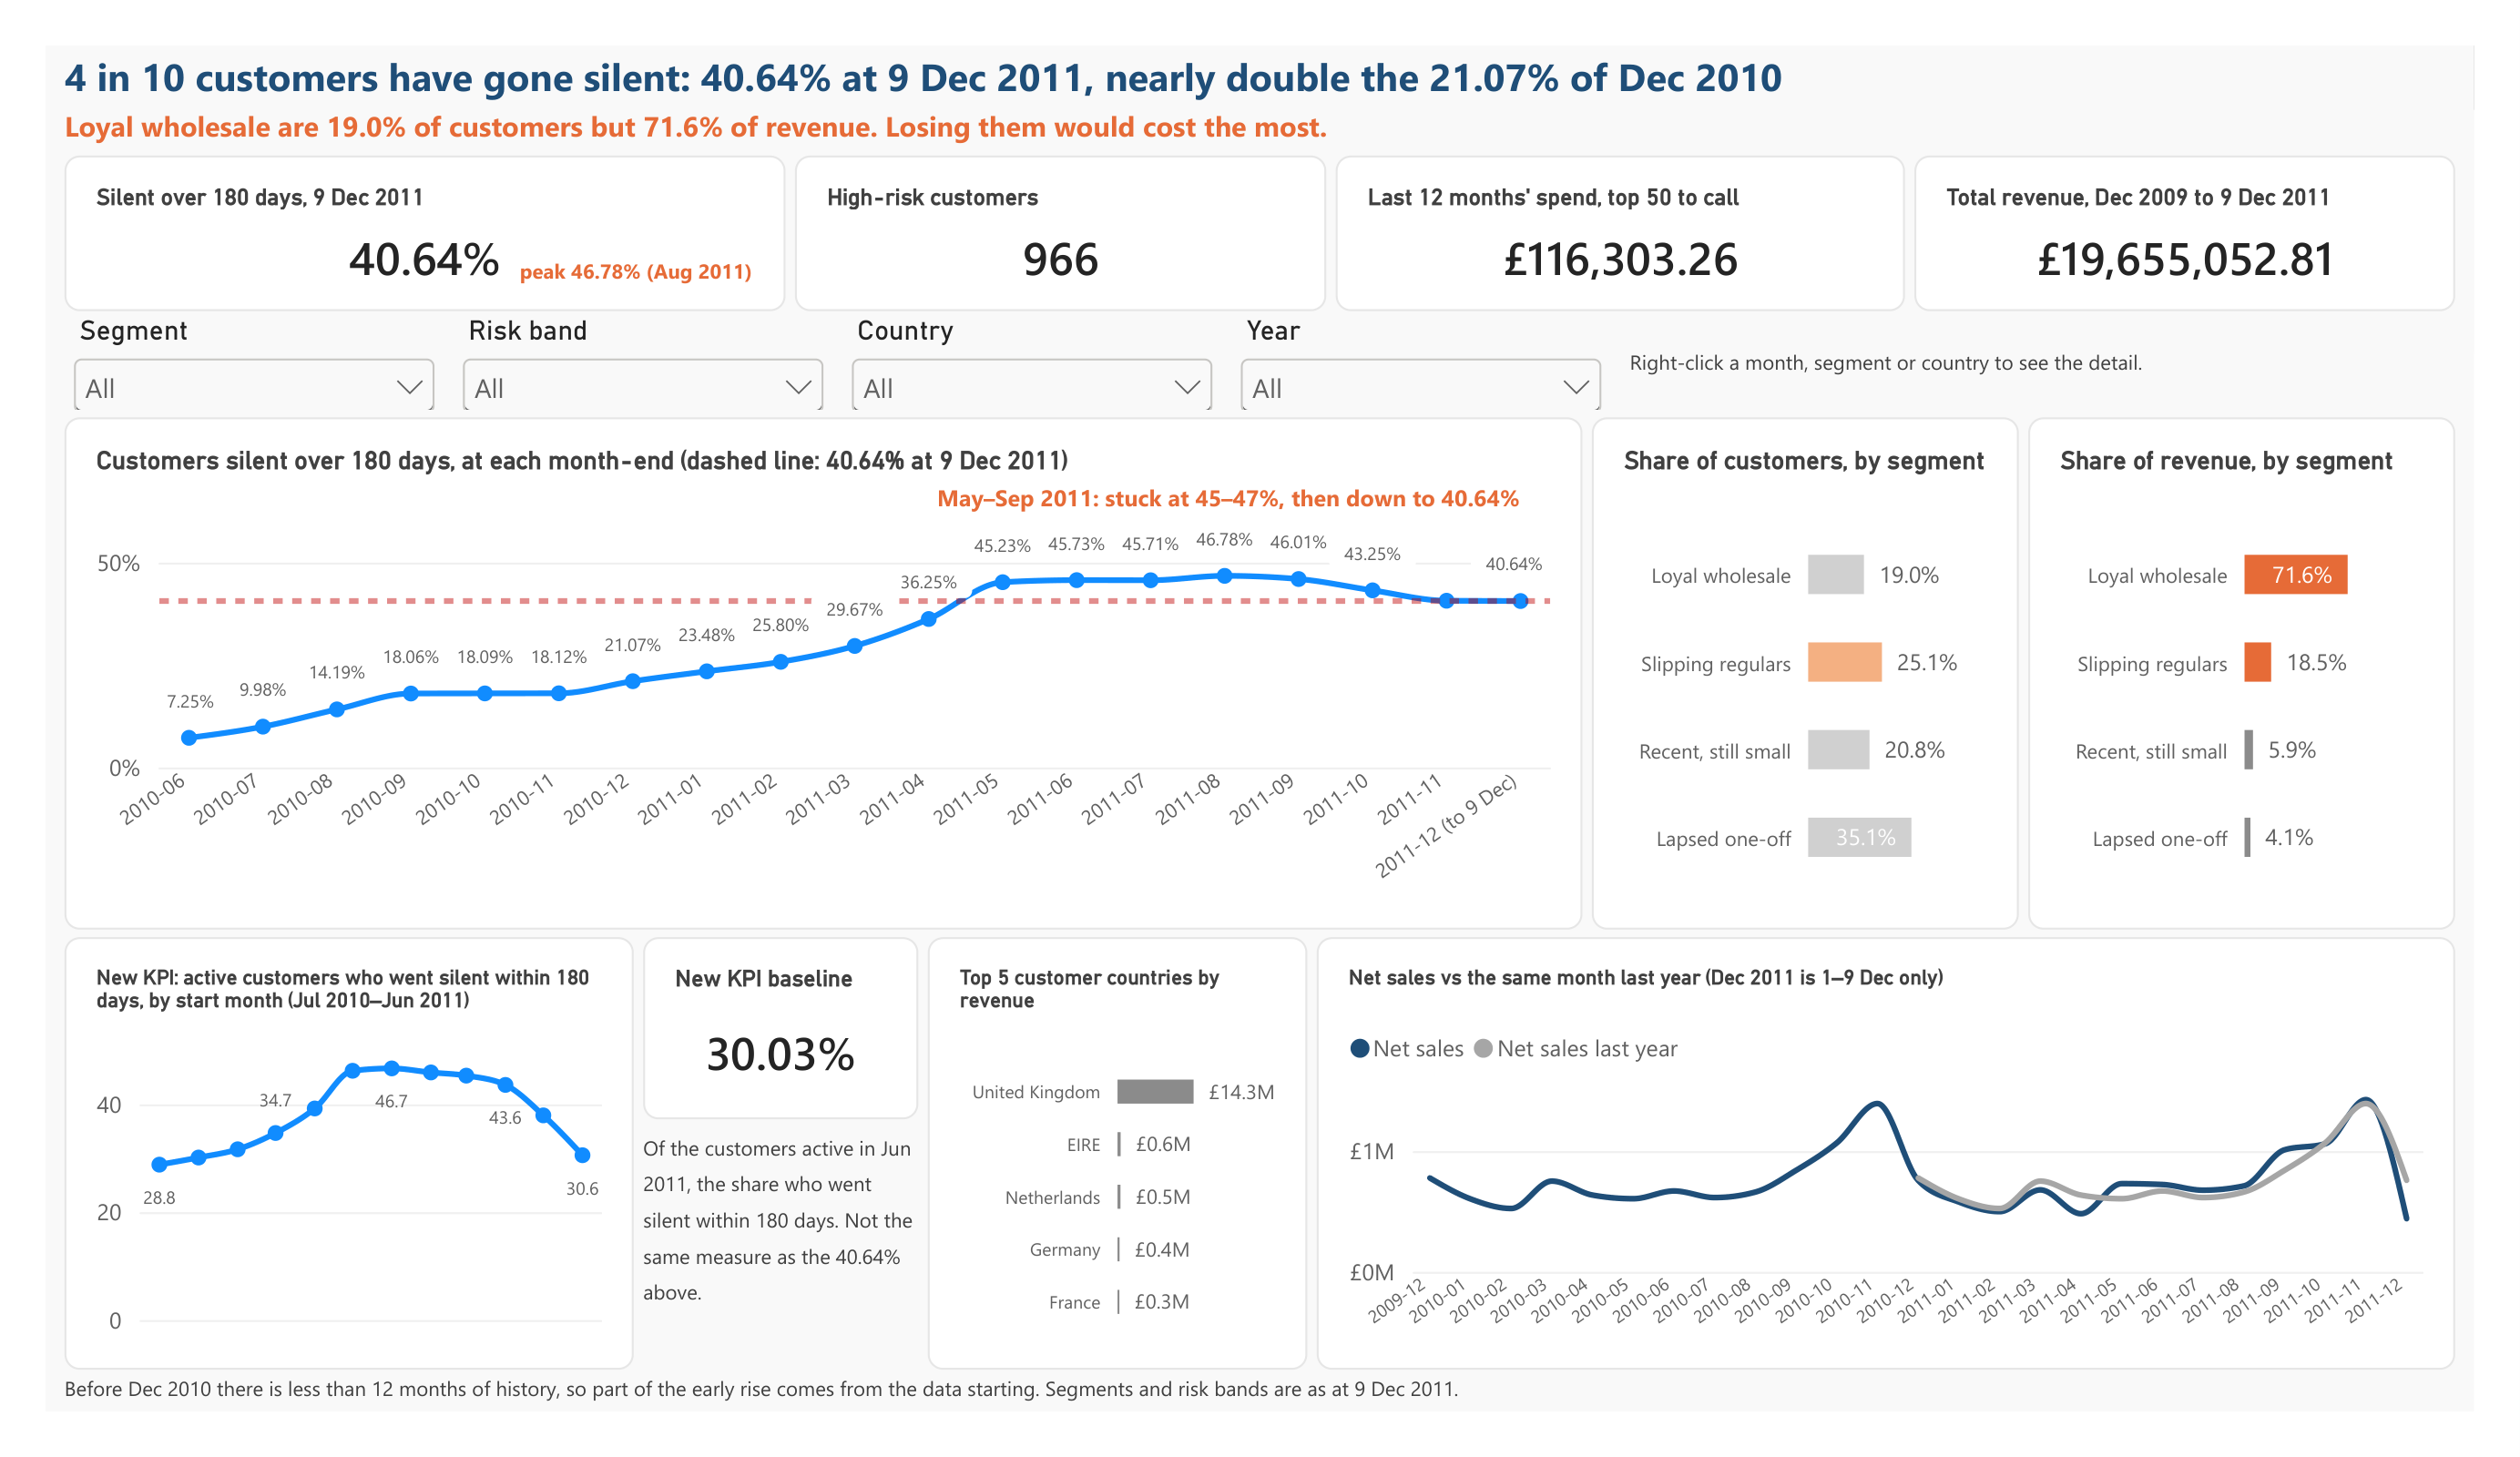

What the dashboard file says about the page in this screenshot:
{"tool":"powerbi","page":{"name":"1 Overview","canvas":[1280,720],"ordinal":0},"visuals":[{"type":"textbox","box":[10,2,1260,30],"z":0},{"type":"textbox","box":[10,32,1260,22],"z":1000},{"type":"card","title":"Silent over 180 days, 9 Dec 2011","fields":{"Values":["dim_customer.Silent %"]},"box":[10,58,380,82],"z":2000},{"type":"card","title":"High-risk customers","fields":{"Values":["dim_customer.Flagged customers"]},"box":[395,58,280,82],"z":3000},{"type":"card","title":"Last 12 months'' spend, top 50 to call","fields":{"Values":["dim_customer.Top 50 value 12m"]},"box":[680,58,300,82],"z":4000},{"type":"card","title":"Total revenue, Dec 2009 to 9 Dec 2011","fields":{"Values":["fact_sales.Revenue"]},"box":[985,58,285,82],"z":5000},{"type":"textbox","box":[250,108,140,24],"z":6000},{"type":"slicer","fields":{"Values":["dim_customer.segment"]},"box":[10,142,200,50],"z":7000},{"type":"slicer","fields":{"Values":["dim_customer.risk_band"]},"box":[215,142,200,50],"z":8000},{"type":"slicer","fields":{"Values":["dim_customer.country"]},"box":[420,142,200,50],"z":9000},{"type":"slicer","fields":{"Values":["dim_date.year"]},"box":[625,142,200,50],"z":10000},{"type":"textbox","box":[835,156,435,24],"z":11000},{"type":"lineChart","title":"Customers silent over 180 days, at each month-end (dashed line: 40.64% at 9 Dec 2011)","fields":{"Category":["fact_customer_month.year_month"],"Y":["fact_customer_month.Silent % (as of month)"]},"box":[10,196,800,270],"z":12000},{"type":"textbox","box":[470,228,335,20],"z":13000},{"type":"clusteredBarChart","title":"Share of customers, by segment","fields":{"Category":["dim_customer.segment"],"Y":["dim_customer.Customer share %"]},"box":[815,196,225,270],"z":14000},{"type":"clusteredBarChart","title":"Share of revenue, by segment","fields":{"Category":["dim_customer.segment"],"Y":["dim_customer.Revenue share %"]},"box":[1045,196,225,270],"z":15000},{"type":"lineChart","title":"New KPI: active customers who went silent within 180 days, by start month (Jul 2010–Jun 2011)","fields":{"Category":["kpi_active_to_silent.cutoff_date"],"Y":["Sum(kpi_active_to_silent.pct)"]},"box":[10,470,300,228],"z":16000},{"type":"card","title":"New KPI baseline","fields":{"Values":["kpi_active_to_silent.KPI baseline %"]},"box":[315,470,145,96],"z":17000},{"type":"textbox","box":[315,570,145,128],"z":18000},{"type":"clusteredBarChart","title":"Top 5 customer countries by revenue","fields":{"Category":["dim_customer.country"],"Y":["fact_sales.Revenue"]},"box":[465,470,200,228],"z":19000},{"type":"lineChart","title":"Net sales vs the same month last year (Dec 2011 is 1–9 Dec only)","fields":{"Category":["dim_date.year_month"],"Y":["fact_sales.Net sales","fact_sales.Net sales last year"]},"box":[670,470,600,228],"z":20000},{"type":"textbox","box":[10,697,1260,23],"z":21000}]}

Visuals, with their boxes on the page's 1280x720 design canvas (x1, y1, x2, y2). These are canvas units, not pixel positions in the 2520x1457 screenshot, which may show the page scaled, cropped or inside an application window:
textbox: Rect(10, 2, 1270, 32)
textbox: Rect(10, 32, 1270, 54)
"Silent over 180 days, 9 Dec 2011" card: Rect(10, 58, 390, 140)
"High-risk customers" card: Rect(395, 58, 675, 140)
"Last 12 months'' spend, top 50 to call" card: Rect(680, 58, 980, 140)
"Total revenue, Dec 2009 to 9 Dec 2011" card: Rect(985, 58, 1270, 140)
textbox: Rect(250, 108, 390, 132)
slicer - dim_customer.segment: Rect(10, 142, 210, 192)
slicer - dim_customer.risk_band: Rect(215, 142, 415, 192)
slicer - dim_customer.country: Rect(420, 142, 620, 192)
slicer - dim_date.year: Rect(625, 142, 825, 192)
textbox: Rect(835, 156, 1270, 180)
"Customers silent over 180 days, at each month-end (dashed line: 40.64% at 9 Dec 2011)" lineChart: Rect(10, 196, 810, 466)
textbox: Rect(470, 228, 805, 248)
"Share of customers, by segment" clusteredBarChart: Rect(815, 196, 1040, 466)
"Share of revenue, by segment" clusteredBarChart: Rect(1045, 196, 1270, 466)
"New KPI: active customers who went silent within 180 days, by start month (Jul 2010–Jun 2011)" lineChart: Rect(10, 470, 310, 698)
"New KPI baseline" card: Rect(315, 470, 460, 566)
textbox: Rect(315, 570, 460, 698)
"Top 5 customer countries by revenue" clusteredBarChart: Rect(465, 470, 665, 698)
"Net sales vs the same month last year (Dec 2011 is 1–9 Dec only)" lineChart: Rect(670, 470, 1270, 698)
textbox: Rect(10, 697, 1270, 720)
